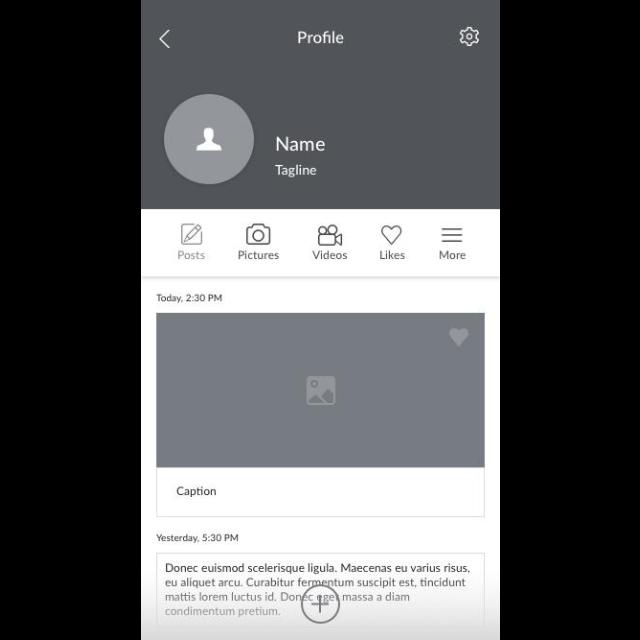icon: (164, 96, 254, 184), (298, 584, 339, 624), (246, 224, 270, 246), (318, 225, 342, 247), (180, 224, 202, 246), (380, 224, 402, 246), (458, 28, 480, 48), (448, 327, 469, 347), (441, 228, 464, 244), (157, 30, 171, 50)
image: (156, 314, 484, 468)
text: (164, 564, 470, 618), (275, 136, 325, 152), (296, 31, 344, 45), (156, 534, 238, 542), (274, 164, 318, 178), (154, 294, 222, 302), (238, 250, 280, 262), (176, 487, 217, 497), (312, 250, 348, 260), (177, 251, 206, 261), (380, 250, 404, 262), (438, 251, 466, 261)
toolbar: (141, 1, 499, 61)
